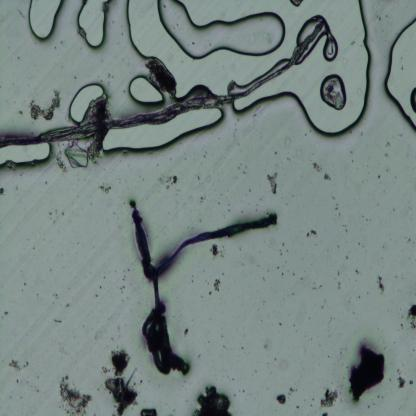Air bubble: (233, 5, 373, 139), (157, 0, 285, 60), (99, 107, 224, 153), (379, 15, 416, 136), (76, 0, 112, 51), (27, 1, 67, 43), (68, 82, 104, 126), (0, 141, 52, 169), (128, 74, 165, 108), (318, 72, 347, 111), (409, 86, 416, 115)
Background material: (136, 282, 192, 380), (345, 334, 386, 405), (100, 343, 138, 414), (57, 370, 92, 415), (192, 382, 236, 415), (29, 88, 62, 122), (65, 140, 89, 169), (317, 386, 341, 410), (312, 162, 332, 183), (46, 204, 66, 223), (54, 146, 69, 170), (160, 172, 179, 189), (265, 172, 278, 196), (9, 357, 30, 371), (407, 304, 416, 331), (376, 274, 386, 298), (210, 241, 221, 257), (213, 275, 222, 294), (396, 374, 406, 391), (182, 324, 194, 338), (98, 183, 113, 194), (140, 406, 158, 415), (305, 226, 318, 238), (276, 392, 286, 406), (194, 170, 203, 185), (122, 265, 130, 281), (310, 283, 322, 291), (51, 316, 63, 324), (119, 284, 127, 295), (286, 387, 298, 394), (334, 280, 343, 289), (51, 291, 59, 300), (200, 194, 208, 203), (0, 184, 6, 195), (384, 140, 392, 148), (382, 150, 390, 158), (396, 365, 402, 375), (333, 202, 340, 210), (64, 303, 72, 310), (2, 308, 9, 316), (265, 340, 272, 348), (196, 352, 203, 360), (280, 240, 286, 248), (343, 252, 349, 260), (19, 109, 25, 116), (408, 378, 414, 385), (406, 237, 412, 244), (203, 150, 208, 158), (320, 412, 330, 416), (356, 266, 360, 276), (98, 282, 103, 290), (246, 187, 252, 193), (400, 321, 404, 329), (208, 290, 212, 298), (275, 266, 280, 271), (94, 294, 99, 299), (23, 279, 26, 287), (238, 345, 244, 349), (351, 157, 355, 163), (344, 228, 348, 234), (238, 165, 242, 170), (274, 150, 278, 155), (292, 272, 296, 277), (278, 250, 282, 255), (342, 222, 346, 227), (328, 354, 332, 359), (378, 174, 381, 180), (298, 277, 304, 280), (296, 404, 299, 410), (242, 170, 246, 174), (332, 196, 336, 200), (228, 208, 232, 212), (140, 380, 144, 384), (278, 322, 282, 326), (338, 212, 341, 217), (338, 272, 341, 277), (281, 272, 284, 276), (274, 357, 277, 361), (350, 150, 353, 154), (357, 242, 360, 246)
Cellulose filter fibre: (0, 23, 321, 151)
Cotton: (129, 198, 287, 280)
